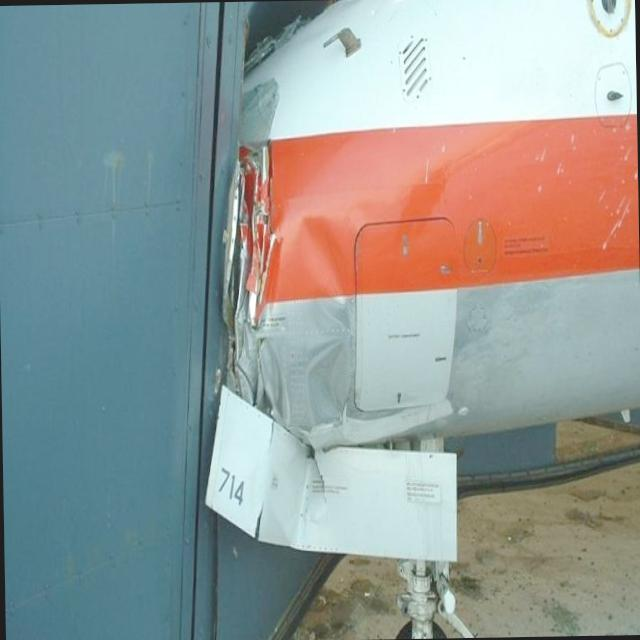dent: (294, 206, 360, 432)
